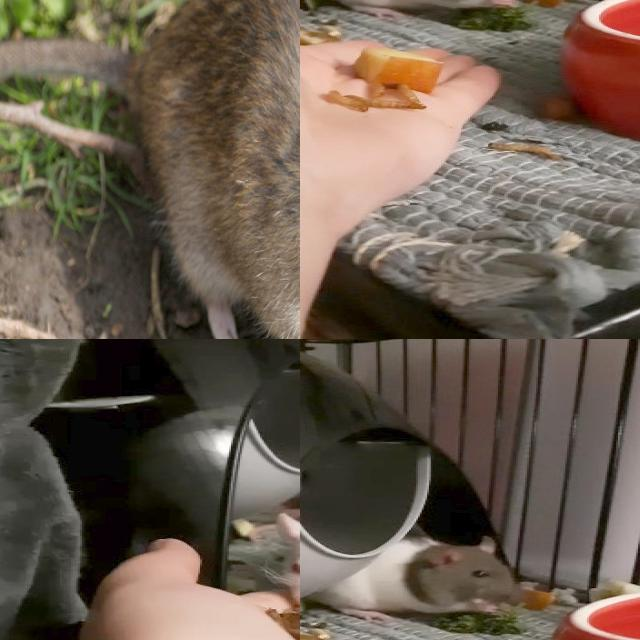rat: (135, 0, 300, 339), (308, 538, 526, 620), (334, 0, 522, 22)
